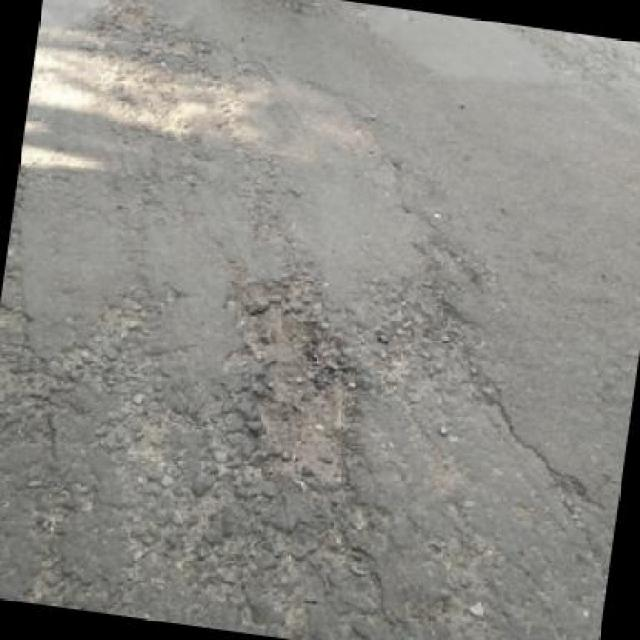pothole1: (196, 262, 384, 496), (368, 281, 474, 377)
